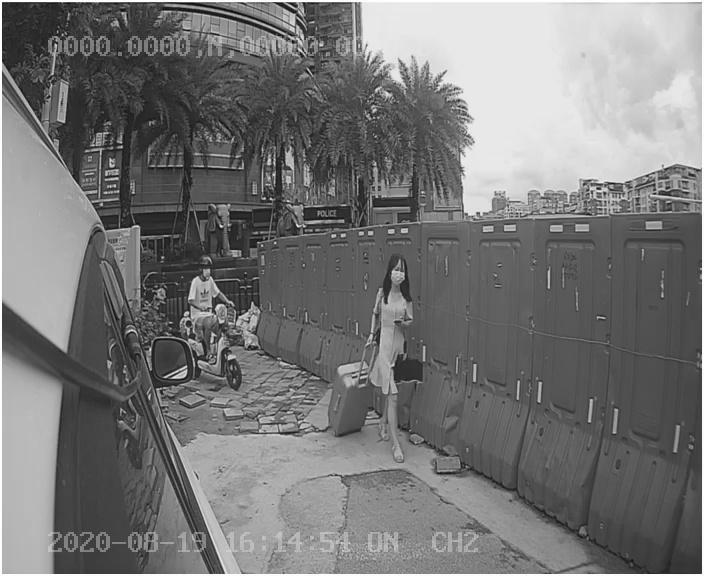person: (362, 248, 427, 466)
